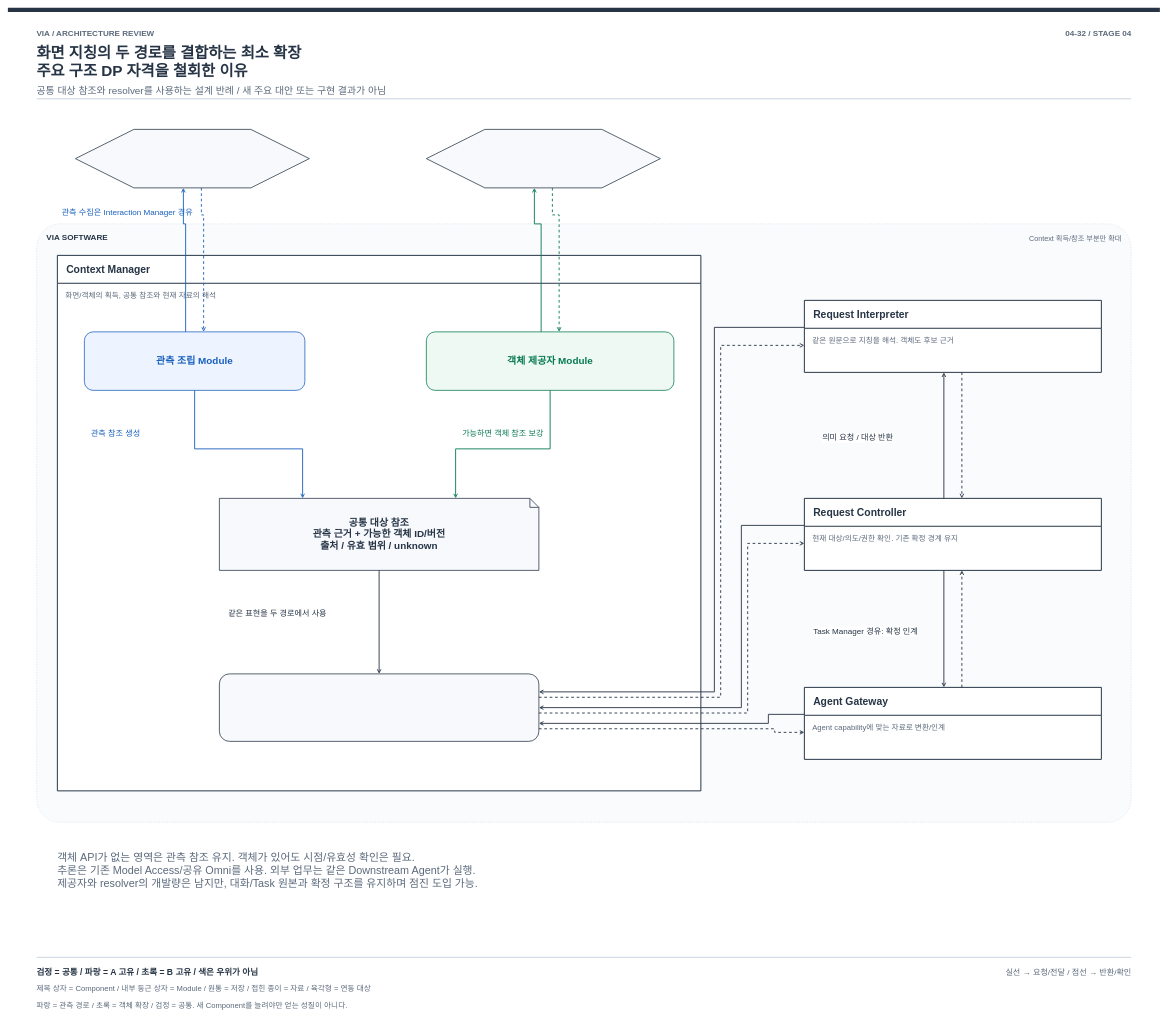
Image size: 1167x1019. Some labels were removed from this diagram. Each missing label, with the centre of its shape:
"같은 앱의 공개 객체 API" belongs at point (543, 158).
"같은 앱의 화면 / 포인터 / 선택" belongs at point (192, 158).
"참조 해석 Module 자료 읽기 / 재확인 필요 반환" belongs at point (379, 707).
